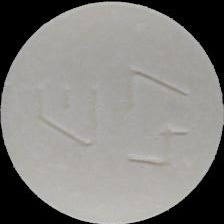67544-306: (0, 0, 224, 224)
